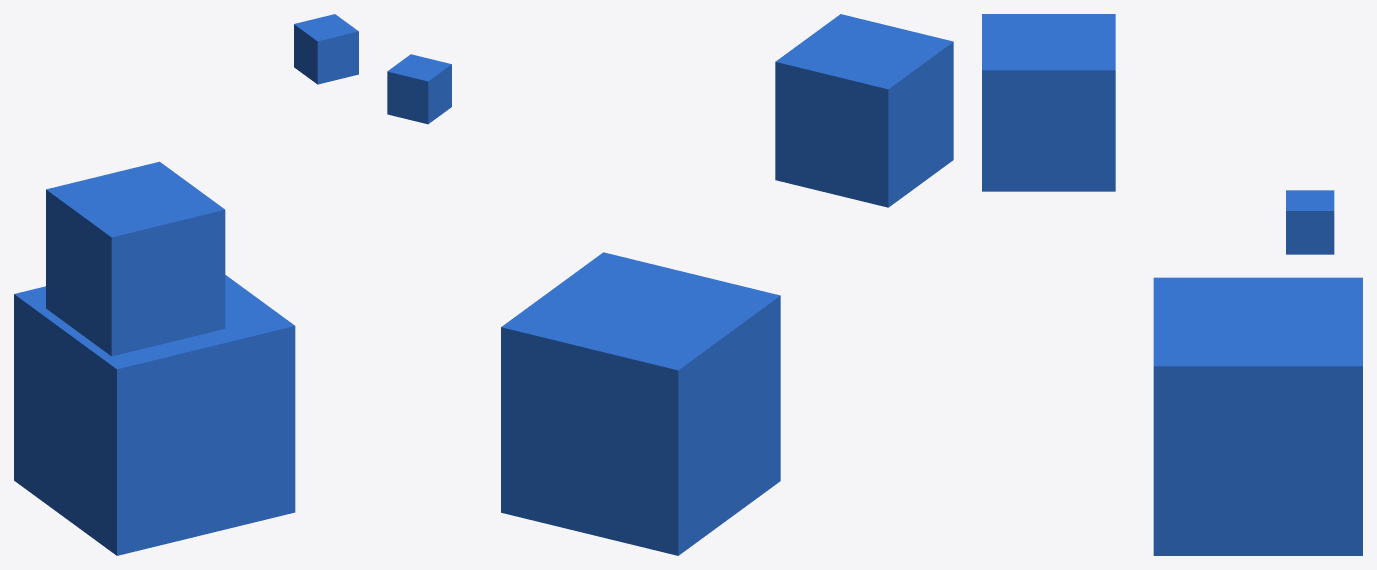
The model's file is 3cubes.gltf.
3 views of the same model, side by side, from view 1: azimuth 30°, elevation 25°; view 2: azimuth 150°, elevation 25°; view 3: azimuth 270°, elevation 25° (orthographic). The views are drawn at different scales.
Visible parts, largest first — view 1: Cube.001, Cube, Cube.002; view 2: Cube.001, Cube, Cube.002; view 3: Cube.001, Cube, Cube.002.
Part boxes in pixels (x1=…): Cube.001: x1=14, y1=275, x2=295, y2=555; Cube: x1=46, y1=161, x2=225, y2=356; Cube.002: x1=294, y1=14, x2=358, y2=84; Cube.001: x1=501, y1=252, x2=780, y2=555; Cube: x1=775, y1=14, x2=953, y2=207; Cube.002: x1=387, y1=54, x2=451, y2=124; Cube.001: x1=1153, y1=277, x2=1362, y2=555; Cube: x1=982, y1=14, x2=1115, y2=191; Cube.002: x1=1286, y1=190, x2=1334, y2=254.
Bounding box in the file's own units: 1.05 × 1.02 × 0.8615.
